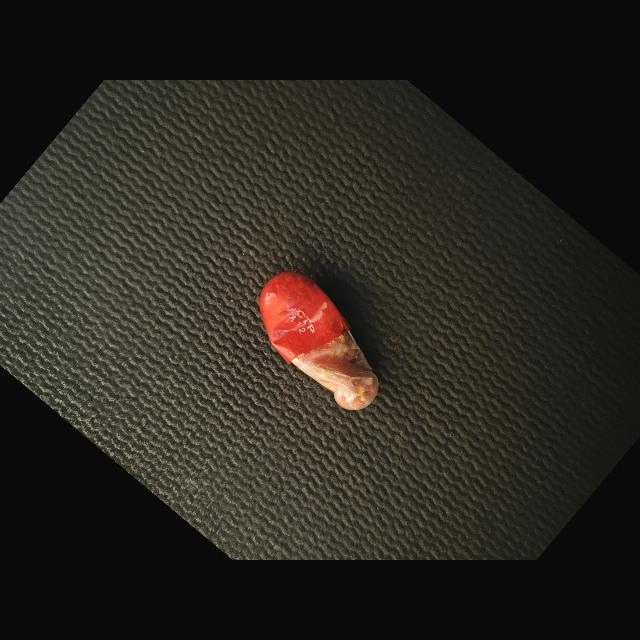Defective Capsule: (259, 271, 379, 410)
